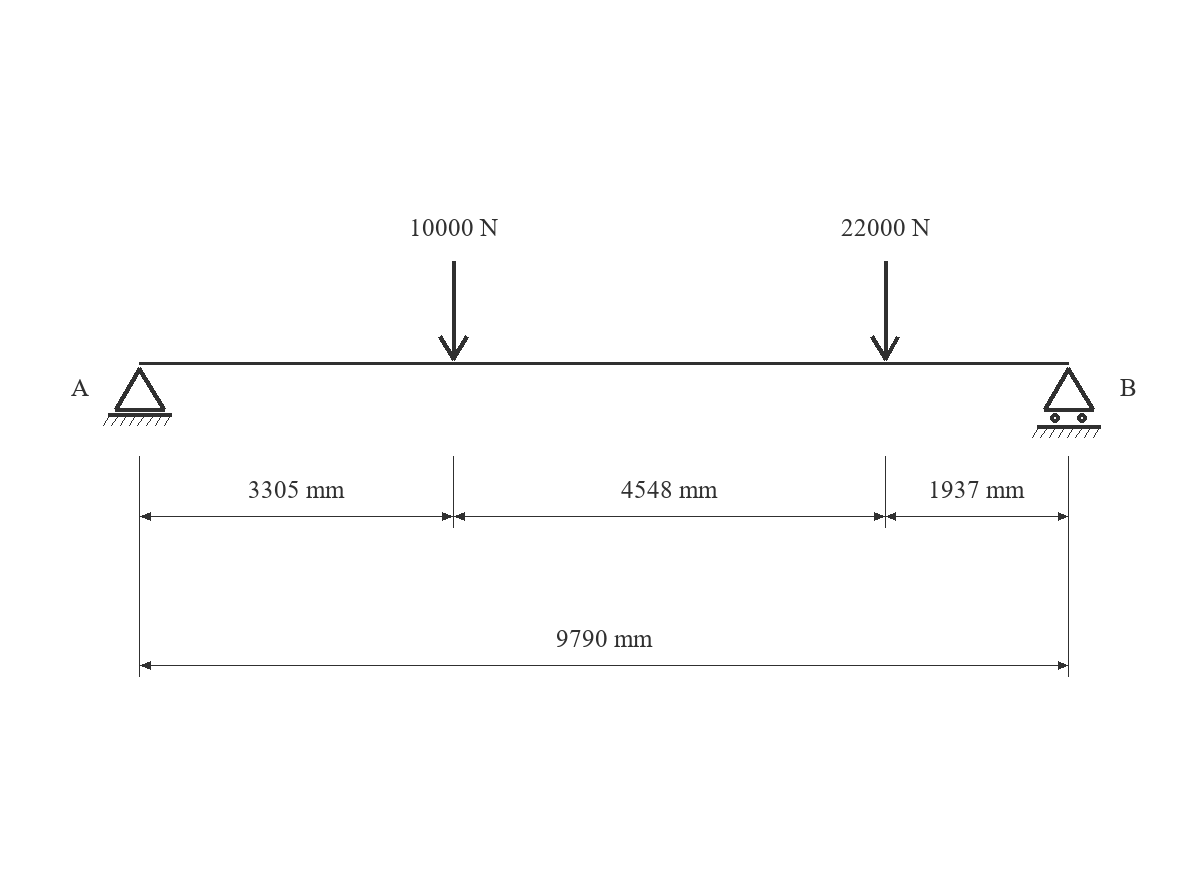pin_support: (103, 367, 172, 426)
point_load: (438, 261, 469, 361), (870, 261, 900, 361)
roller_support: (1032, 367, 1101, 438)
